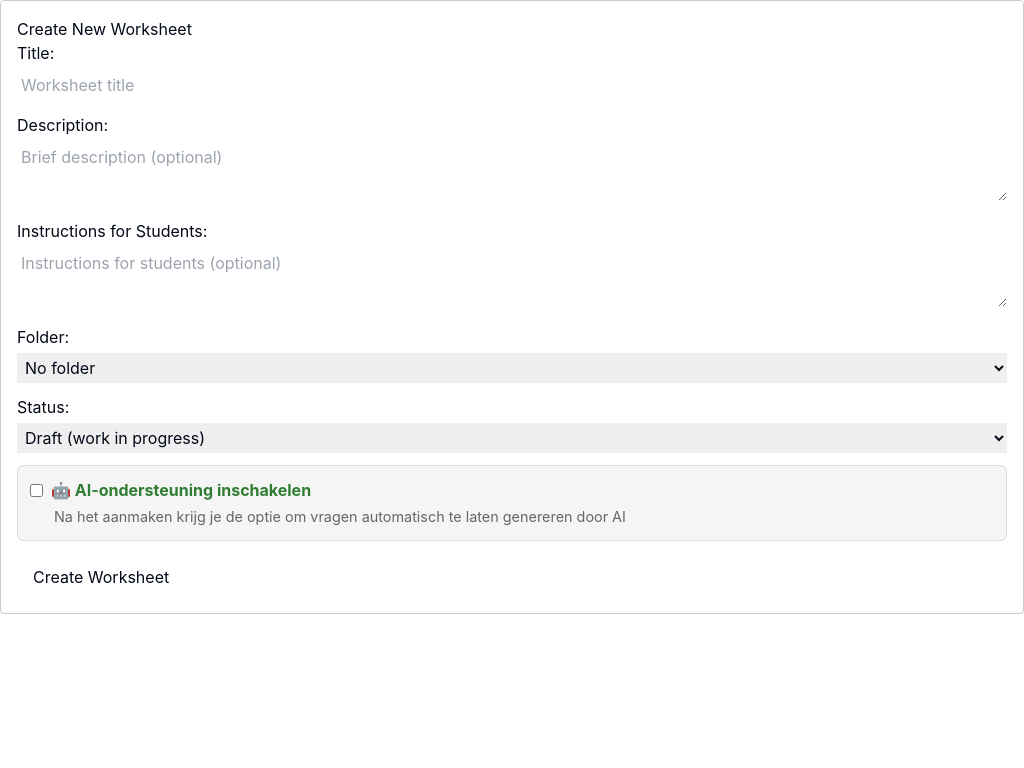
it: WorksheetCreateForm › shows error when worksheet creation fails
This screenshot has width=1024, height=768.
Note: Fill in the form
Type "Test Worksheet" into the field with placeholder "Worksheet title".
click(512, 85); type("Test Worksheet")  # box [17,69,1007,101]
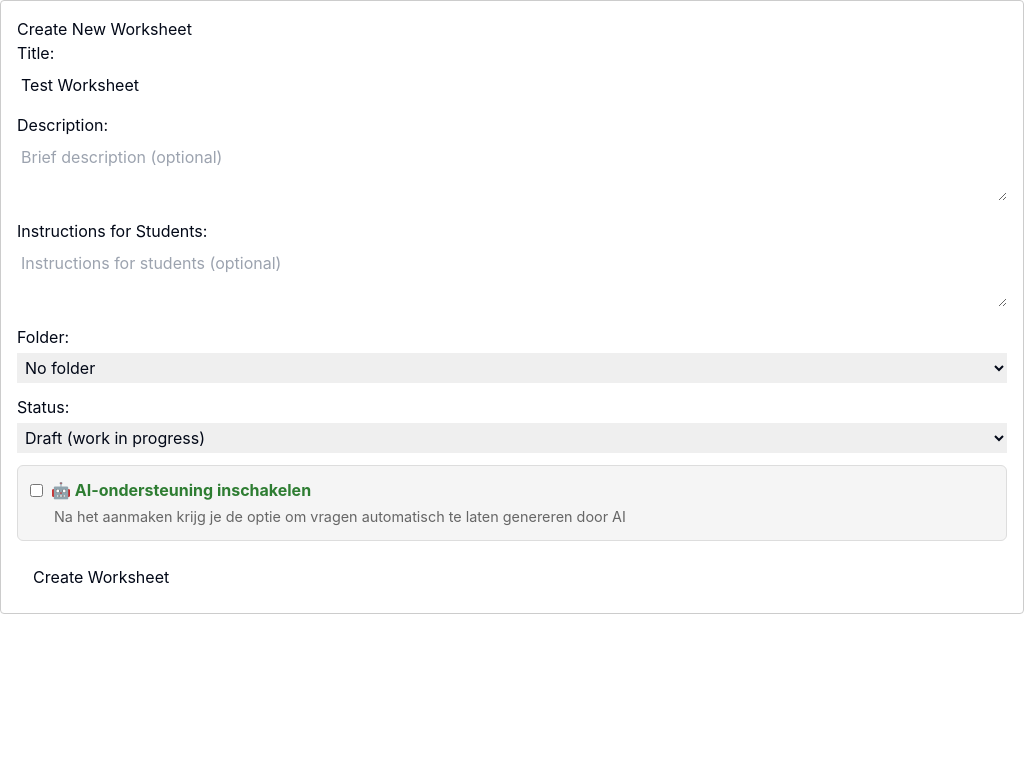
Note: Submit the form
Click the button "Create Worksheet".
click(101, 577)  # box [17,557,185,597]
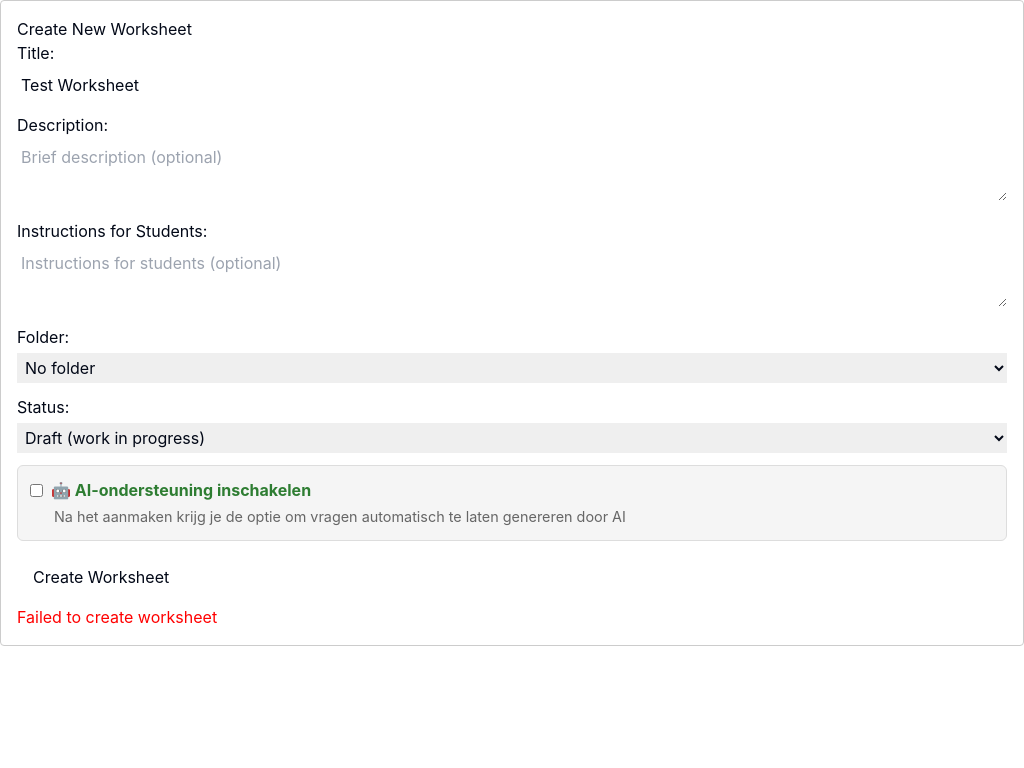
Result: the text "Failed to create worksheet" is shown at [17,607,217,627]
